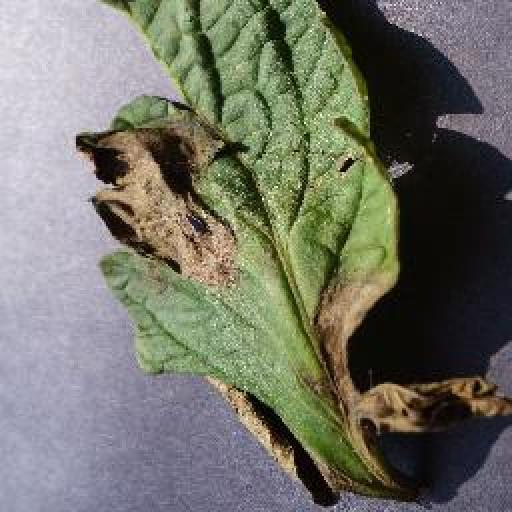disease_tomato: (73, 0, 511, 508)
